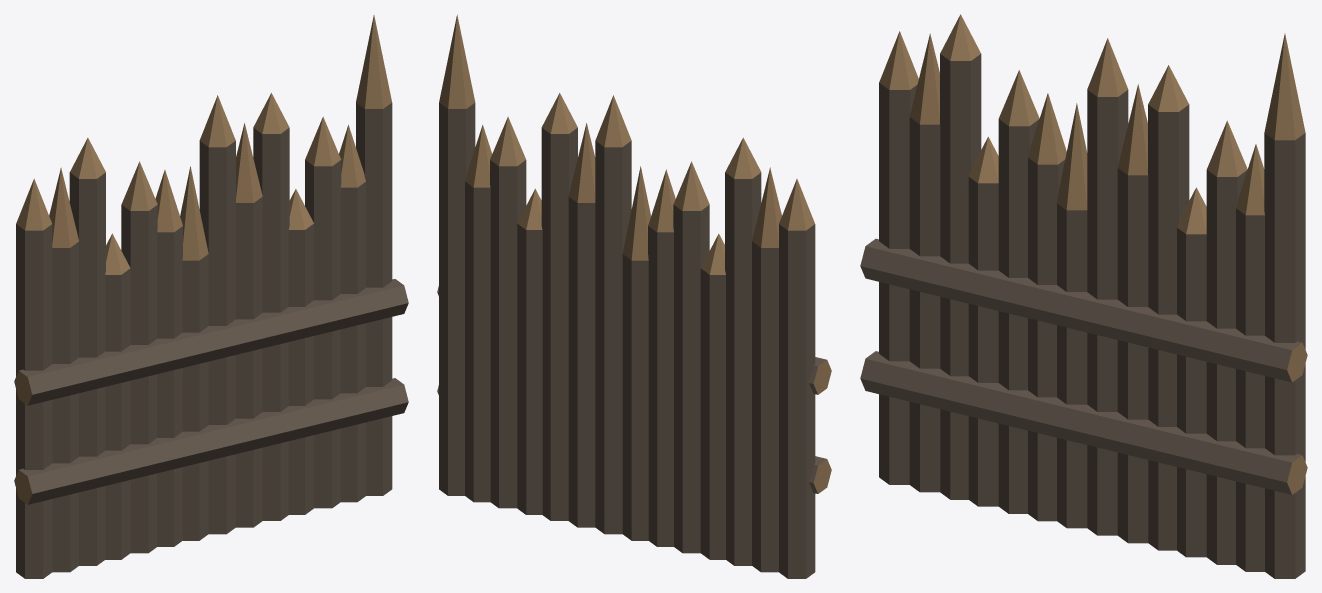
The model's file is Wall.fbx.
3 renders of one model, left to right at view 1: azimuth 30°, elevation 25°; view 2: azimuth 150°, elevation 25°; view 3: azimuth 330°, elevation 25°, orthographic. The views are drawn at different scales.
Parts seen in each view (by area): view 1: pCylinder559; view 2: pCylinder559; view 3: pCylinder559.
Boxes of the visible parts, x1,y1,x2,y2 form: pCylinder559: (14,15,408,578); pCylinder559: (437,14,831,578); pCylinder559: (860,14,1307,578).
Size of the model in its own units: 4.07 by 4.91 by 0.4776.
